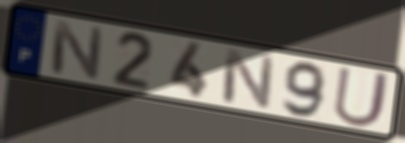2: (111, 31, 156, 93)
4: (167, 40, 211, 101)
9: (282, 59, 328, 119)
N: (48, 17, 106, 83), (219, 46, 277, 112)
U: (330, 64, 393, 130)
